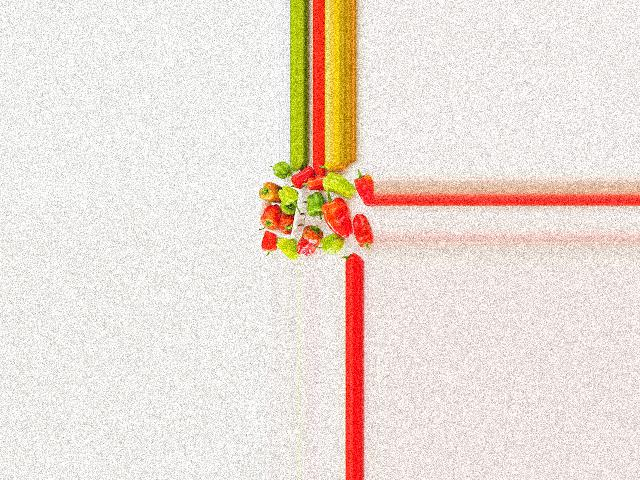bell_pepper: (351, 168, 374, 201)
